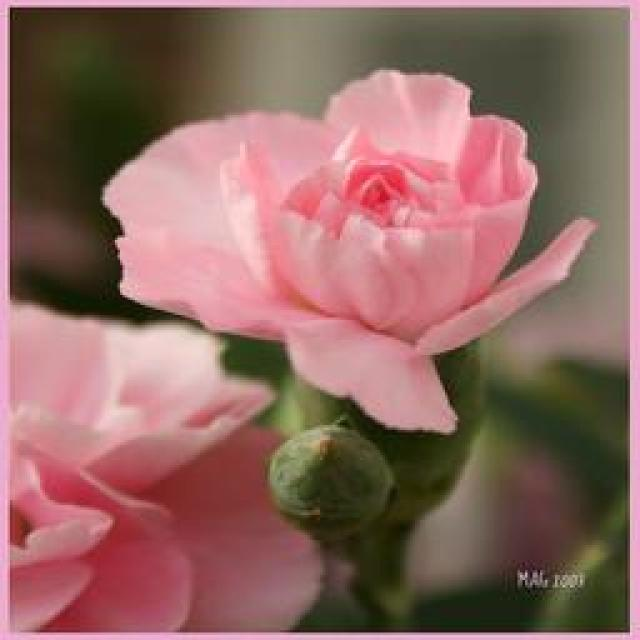carnation: (98, 64, 604, 423)
